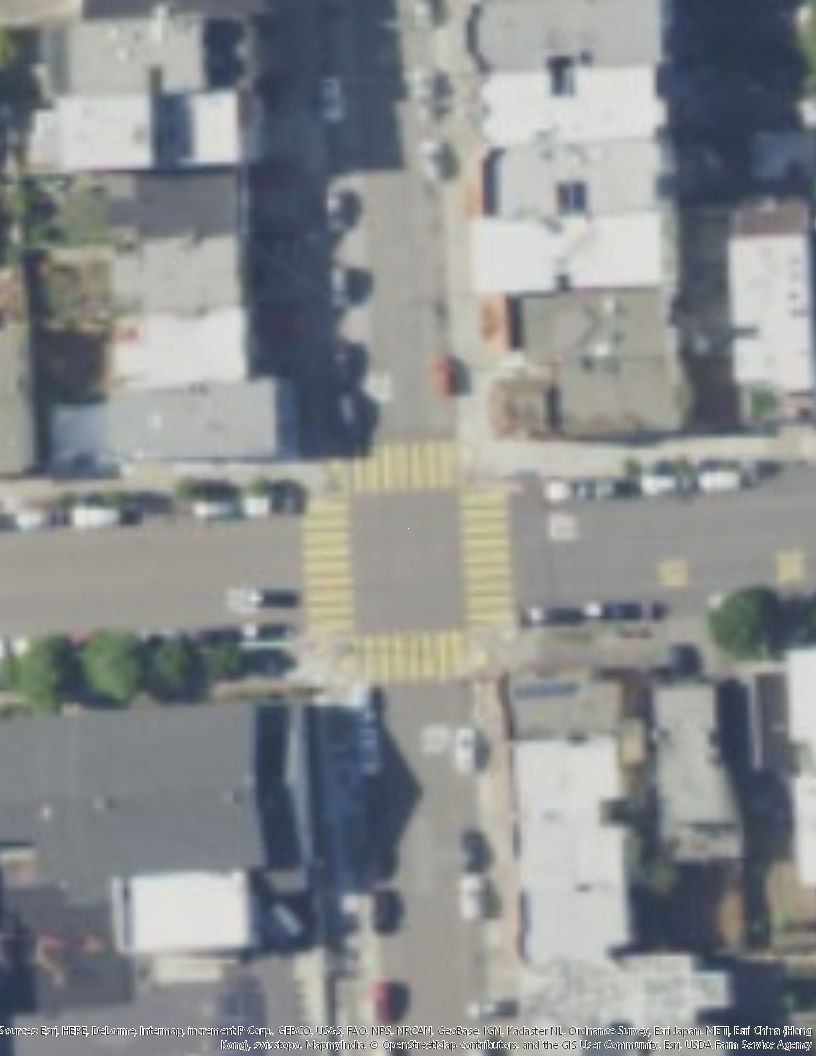zebracross: (303, 488, 358, 638), (463, 484, 516, 623), (347, 437, 463, 492), (357, 628, 477, 681)
